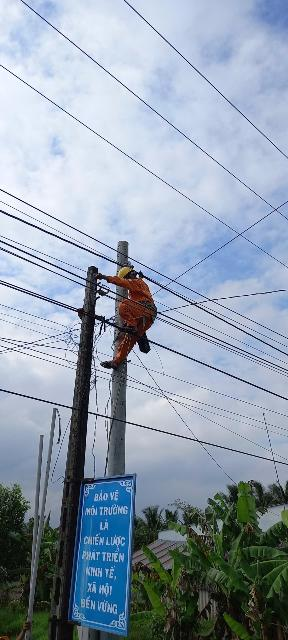gloves: (92, 268, 112, 290)
harness: (130, 291, 167, 322)
helmet: (110, 260, 148, 280)
shoes: (82, 348, 125, 373), (118, 318, 145, 339)
